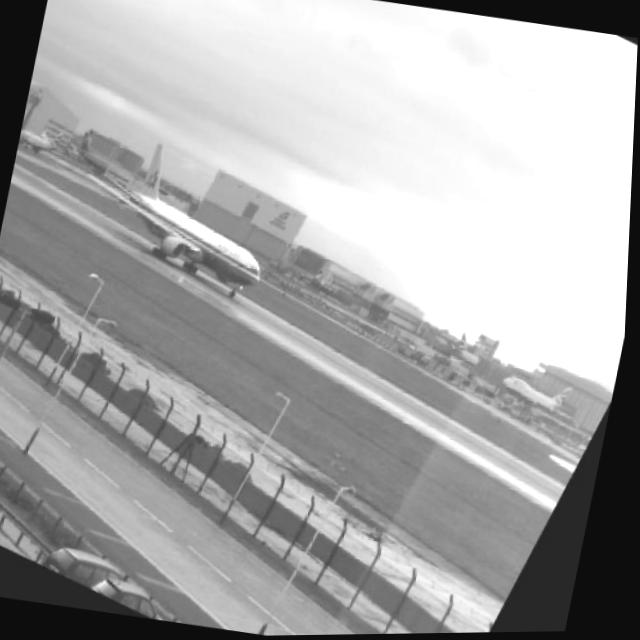aeroplane: (55, 112, 311, 309), (496, 350, 584, 420), (428, 316, 494, 370), (16, 118, 62, 161), (296, 261, 342, 297)
